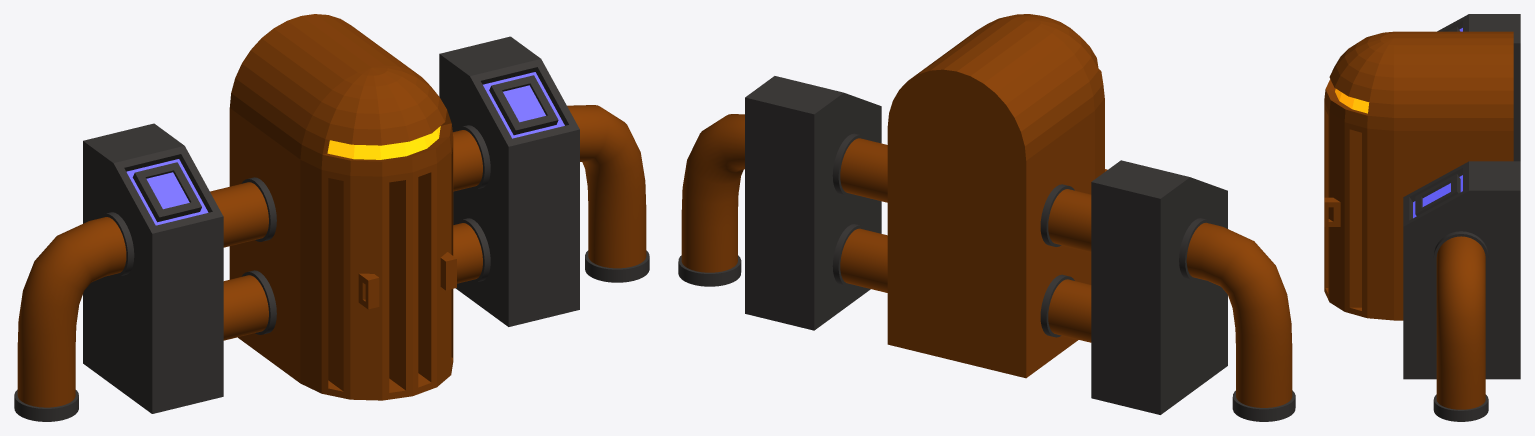
Rendered from BossMapMain.fbx.
3 renders of one model, left to right at view 1: azimuth 30°, elevation 25°; view 2: azimuth 150°, elevation 25°; view 3: azimuth 270°, elevation 25°, orthographic. The views are drawn at different scales.
Visible parts, largest first — view 1: Main, Monitor01.001, Monitor01, OutputPipe01.001, OutputPipe01; view 2: Main, Monitor01.001, Monitor01, OutputPipe01.001, OutputPipe01; view 3: Main, Monitor01, OutputPipe01, Monitor01.001.
Boxes of the visible parts, x1,y1,x2,y2 form: Main: (229,14,456,400); Monitor01.001: (83,123,223,413); Monitor01: (439,36,579,326); OutputPipe01.001: (14,177,276,421); OutputPipe01: (452,105,649,283); Main: (887,14,1107,378); Monitor01.001: (1091,160,1227,414); Monitor01: (745,76,881,330); OutputPipe01.001: (1040,184,1295,421); OutputPipe01: (678,114,887,292); Main: (1324,31,1513,320); Monitor01: (1403,161,1520,379); OutputPipe01: (1433,231,1488,421); Monitor01.001: (1437,14,1520,161).
Bounding box in the file's own units: 8.79 × 4.02 × 2.82.
